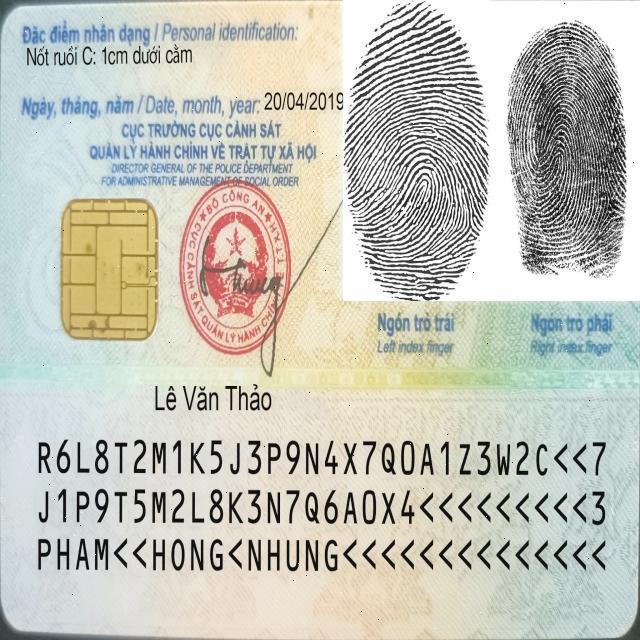features: (25, 44, 198, 72)
finger_print: (342, 2, 496, 361), (500, 2, 640, 360)
issue_date: (260, 85, 345, 115)
